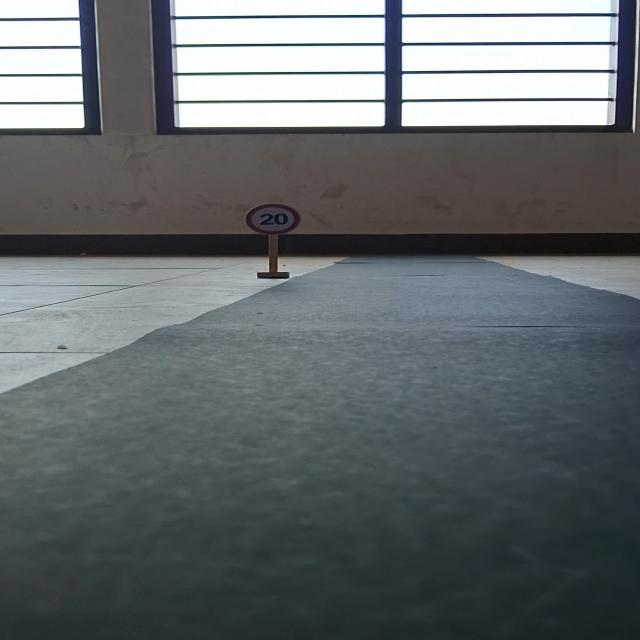Speed20: (242, 201, 304, 236)
